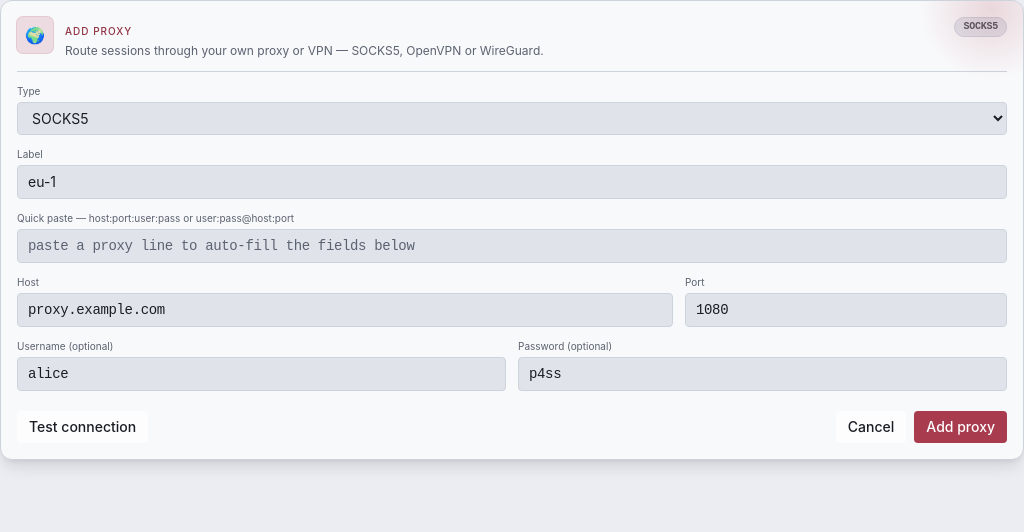
Scenario: the in-form Test-connection verdict honours can_route (MED #5) › CRITICAL a reachable + authenticated but NON-ROUTING proxy renders RED "✗ Failed", never green "✓ Connected"
Step 1. Click the button "Test connection" → click(83, 427), box [17,411,148,443]
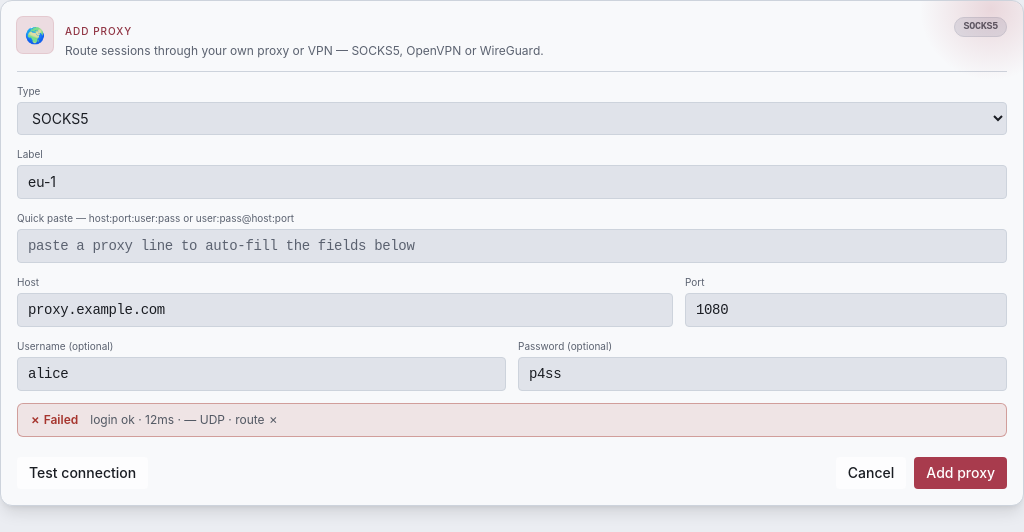
expect the text "✗ Failed" is shown: met, box [30,412,78,428]
expect the element showing "✗ Failed login ok · 12ms · — UDP · route ✗" is shown: met, box [17,403,1007,437]
